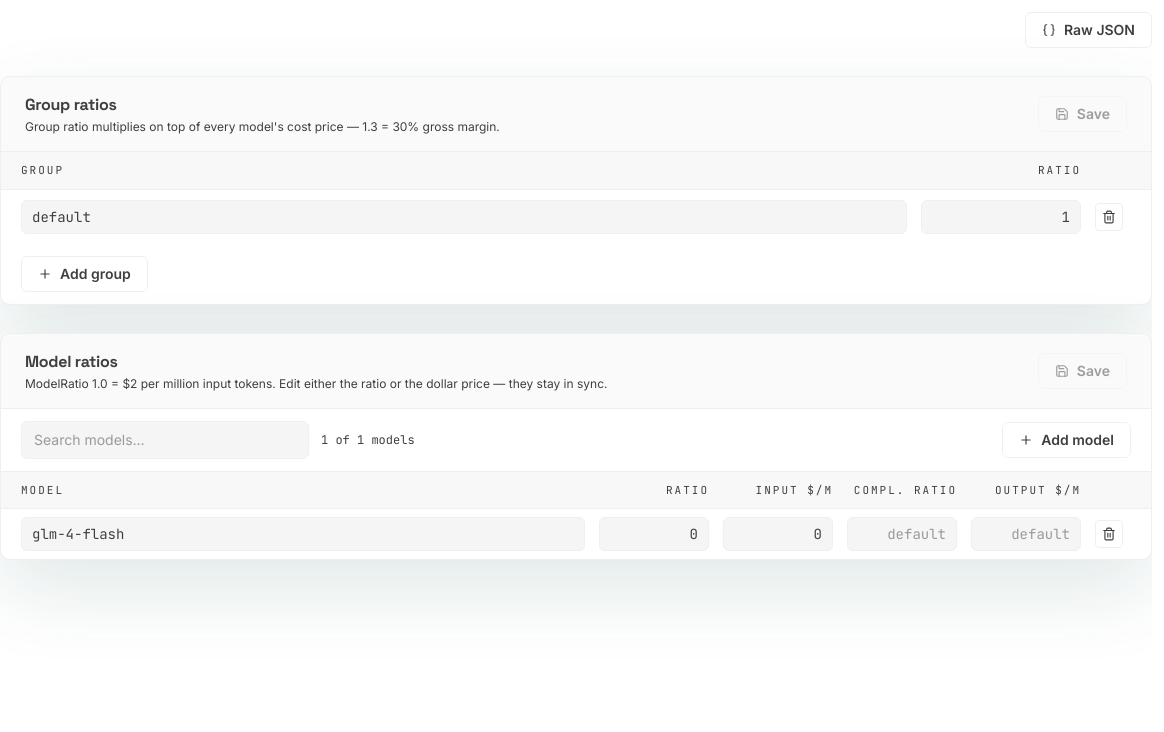
<PricingEditor> free models and orphan completion keys › a non-zero output price on a free model (ratio 0) blocks saving
Type "5" into the field named "glm-4-flash output price" at (1026, 534), box [971, 517, 1081, 551]
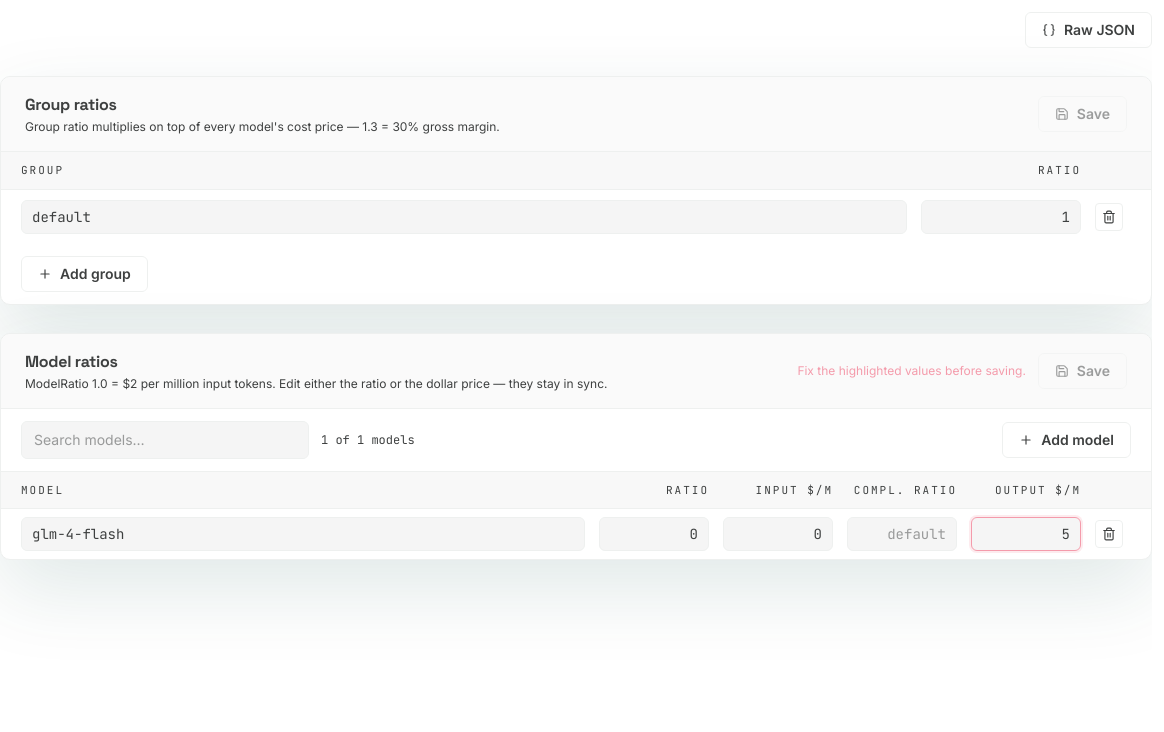
Expected: the button "Save" in the row of "Model ratios" is disabled, [1038, 352, 1127, 388]
Now the text "Fix the highlighted values before saving." is shown, box [797, 362, 1026, 378]
